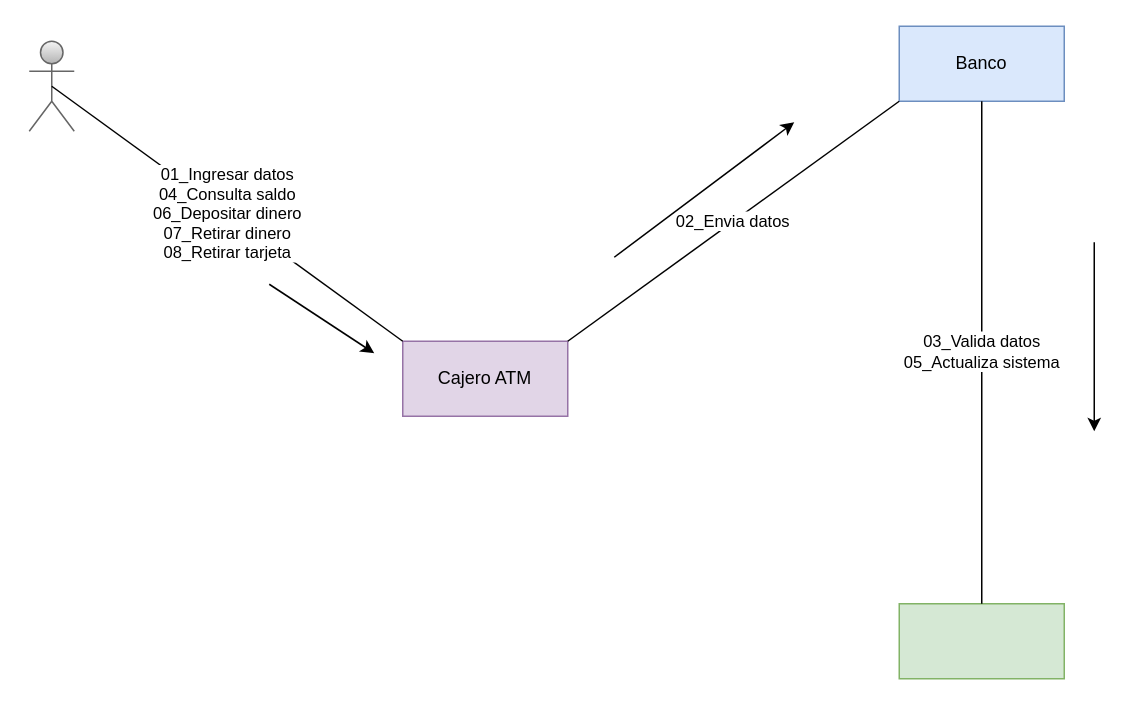
Image size: 1133x705. Some labels were removed from this diagram. The box of each missing label's shape, as (x1, y1, x2, y2) in pixels:
cliente: (28, 40, 74, 131)
Sistema: (898, 602, 1064, 679)
